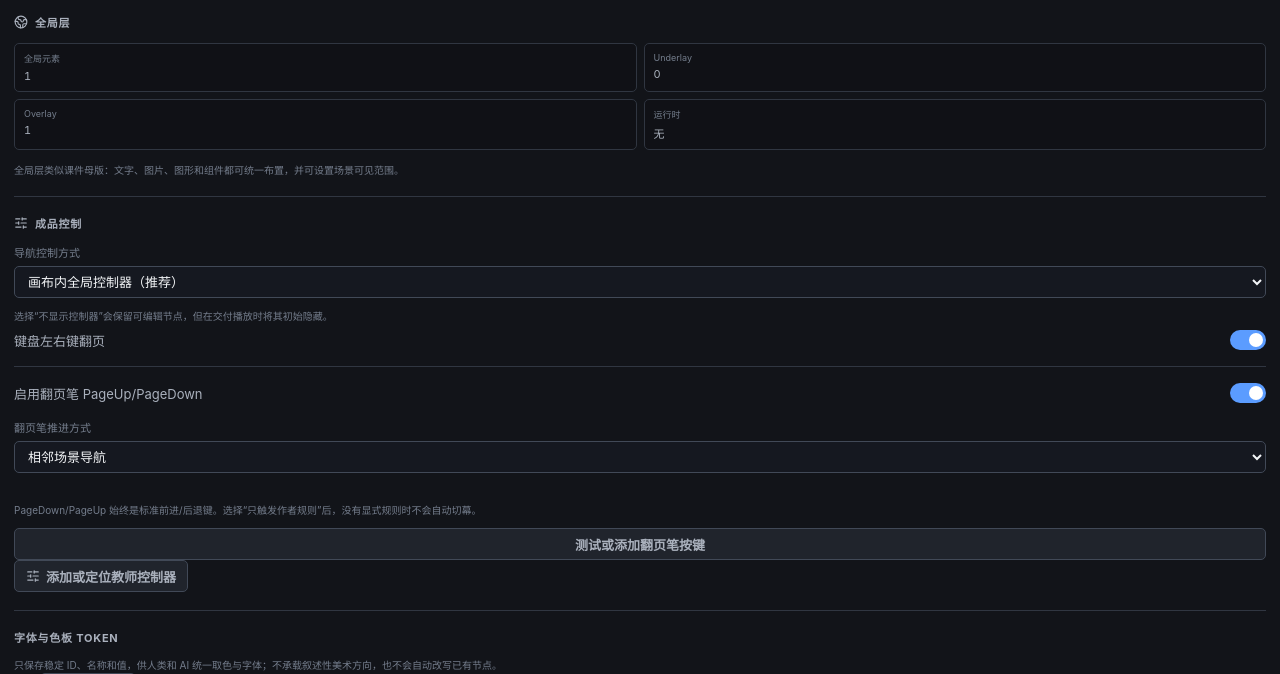
Test: presenter settings editor › 关闭画布控制器后显示警告，并可一键修复
Select "不显示控制器" in the dropdown named "导航控制方式" at (640, 282), box [14,266,1266,298]
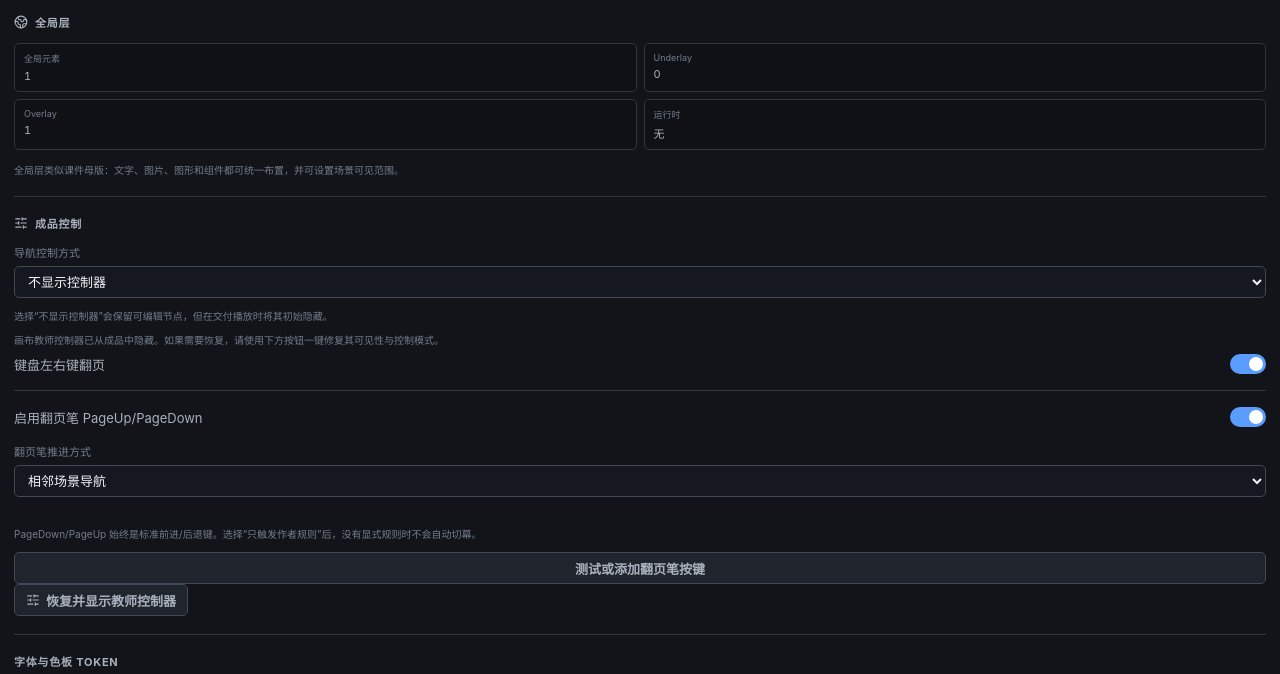
Expected: the message with test id "controller-consistency-notice" shows "已从成品中隐藏", [14,334,444,346]
Click the button "恢复并显示教师控制器".
click(101, 600)  # box [14,584,188,616]
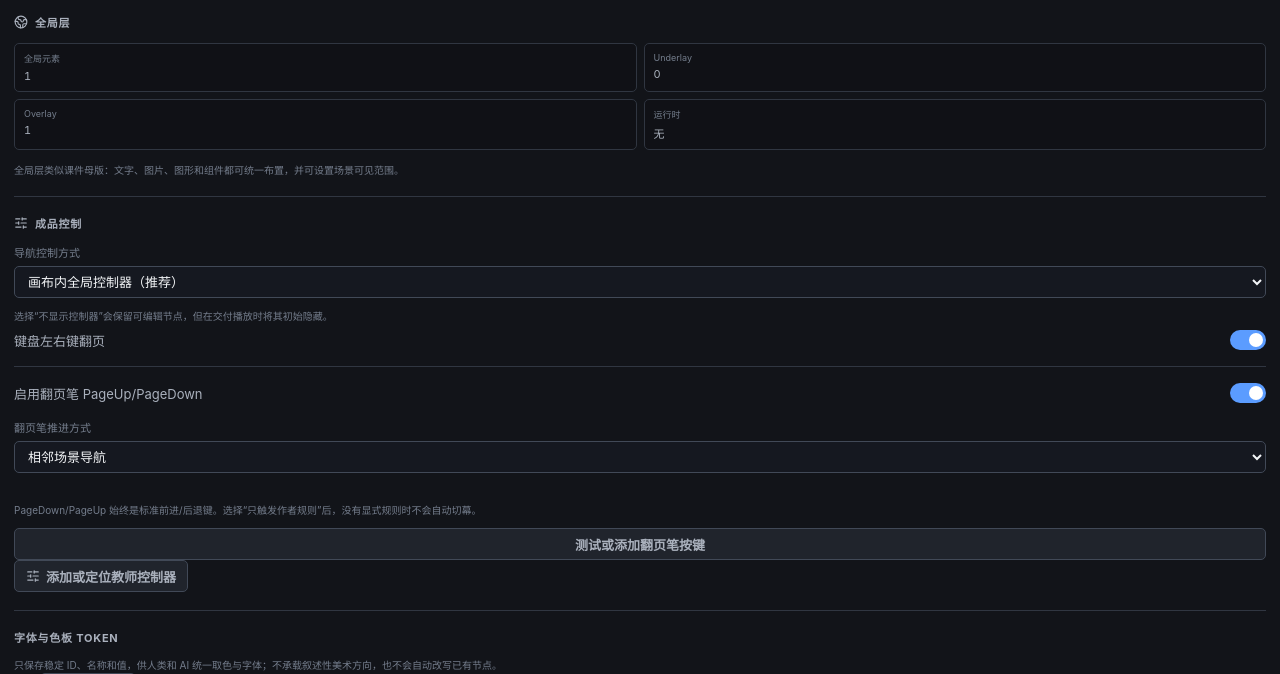
Expected: the message with test id "controller-consistency-notice" is gone
